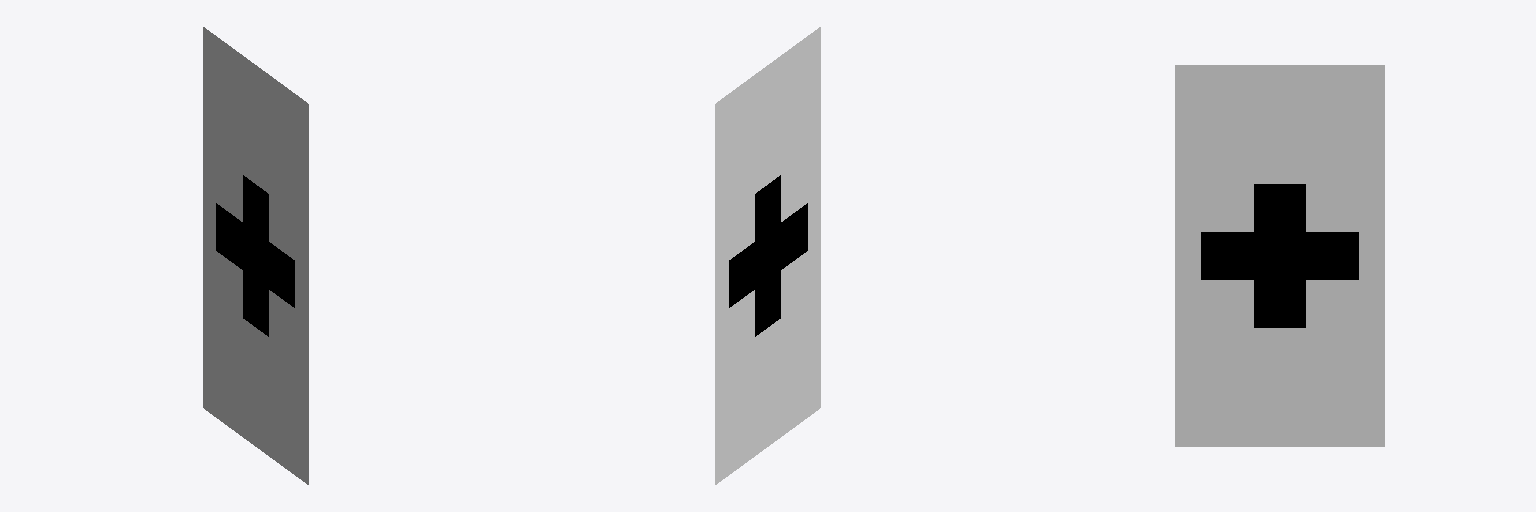
The model's file is cruciform.obj.
The picture shows the model from 3 angles: view 1: azimuth 30°, elevation 25°; view 2: azimuth 150°, elevation 25°; view 3: azimuth 270°, elevation 25°; orthographic projection.
Visible parts, largest first — view 1: Plane; view 2: Plane; view 3: Plane.
Boxes of the visible parts, box(x1,y1,x2,y2) form: Plane: box(203, 27, 308, 484); Plane: box(715, 27, 820, 484); Plane: box(1175, 65, 1384, 446).
Bounding box in the file's own units: 0.0006 × 1.22 × 0.6096.